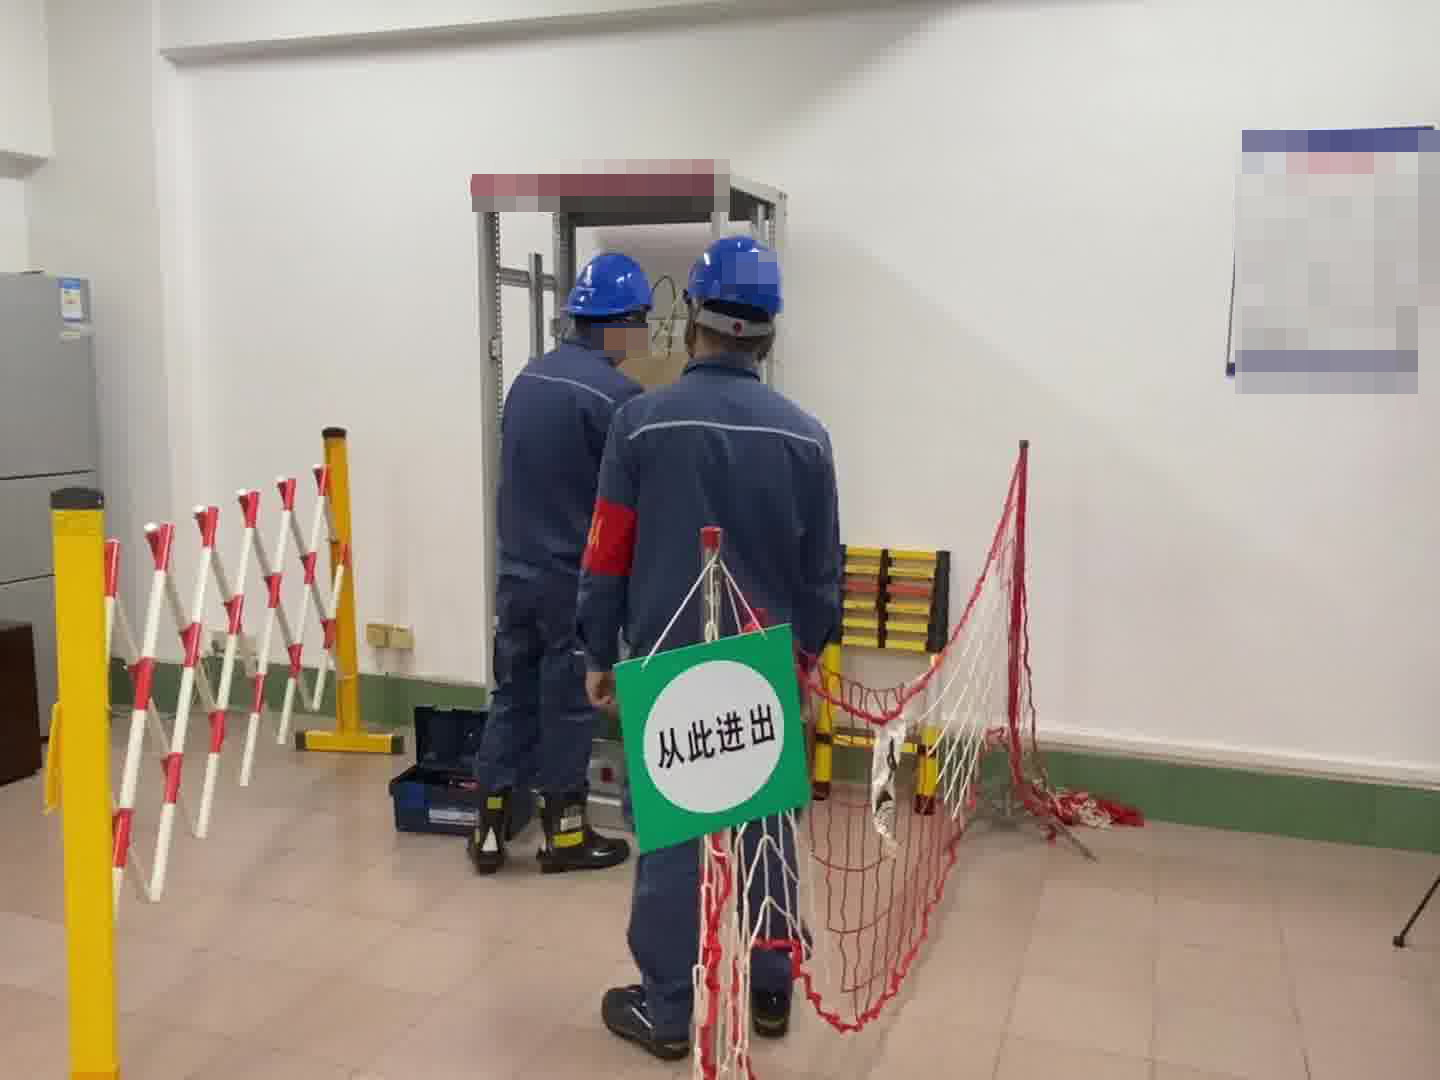badge: (581, 497, 640, 579)
downsuit: (641, 782, 824, 996), (466, 593, 592, 806)
fhalt: (561, 251, 659, 357)
halt: (683, 233, 787, 358)
hand: (584, 668, 617, 709)
intosign: (612, 617, 815, 859)
person: (604, 233, 856, 1048), (452, 247, 661, 877)
shoe: (531, 800, 630, 873), (462, 802, 515, 875)
upsuit: (579, 365, 844, 668), (494, 341, 632, 575)
